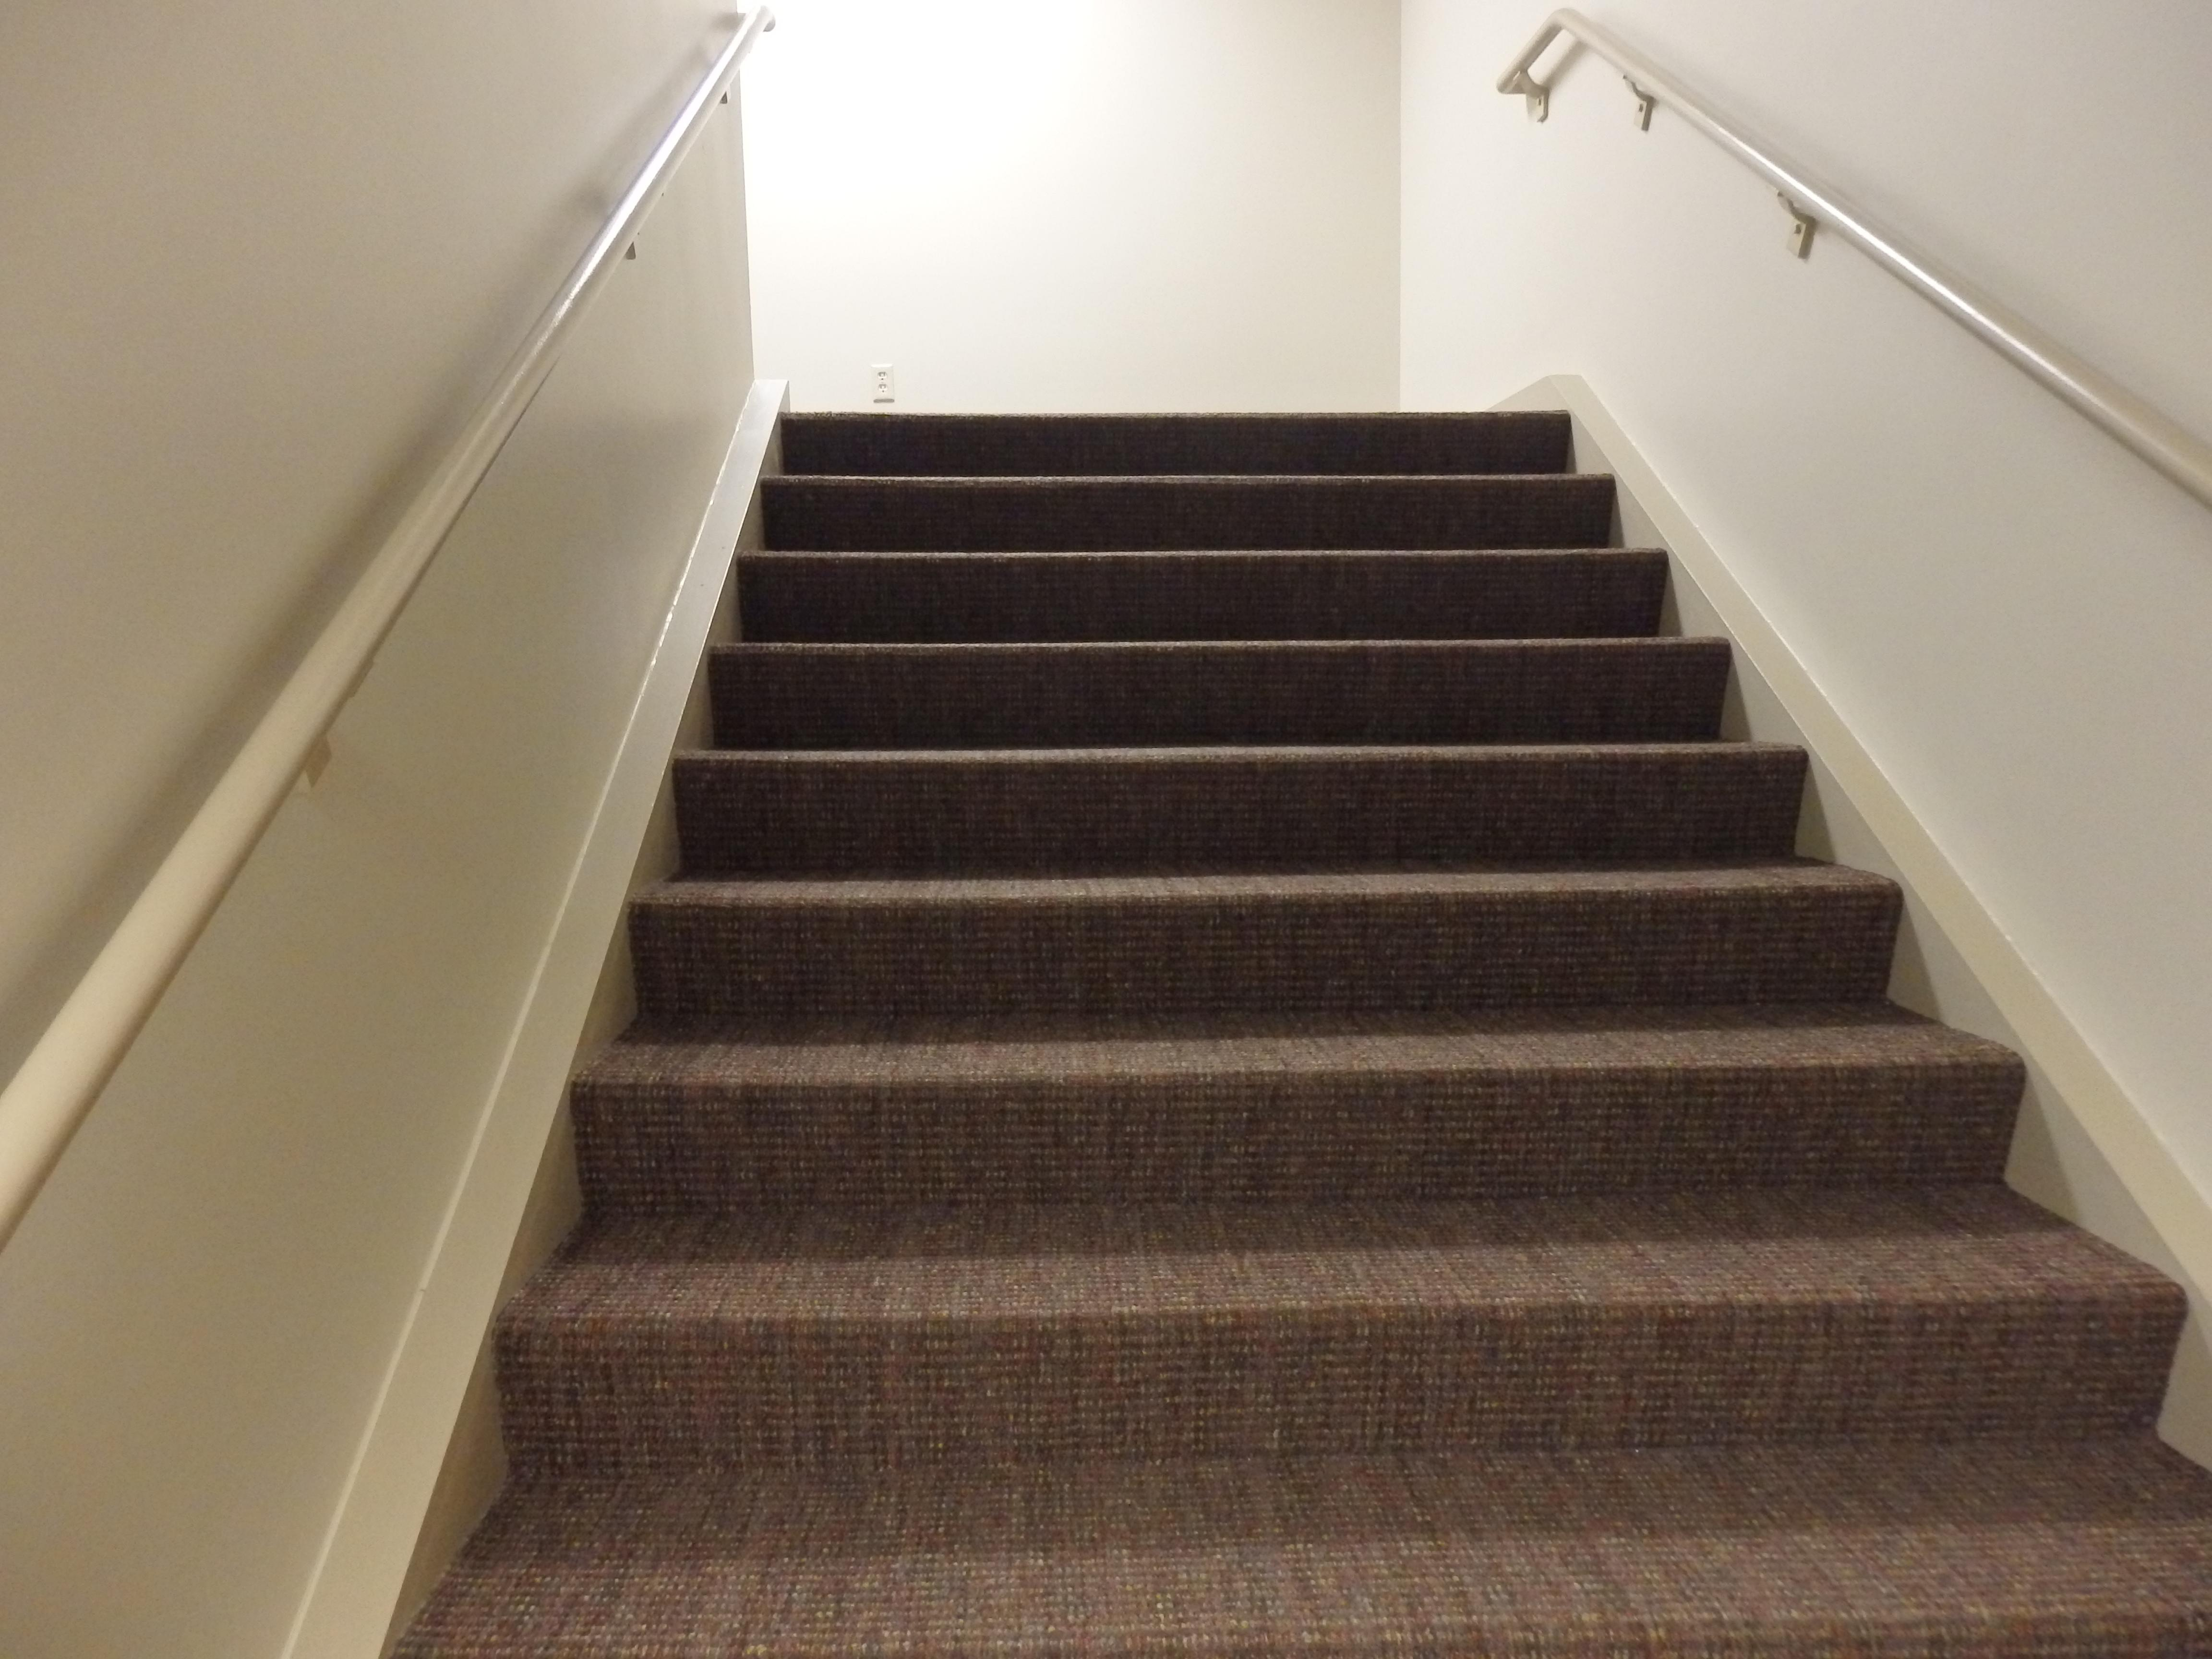stairs_up: (604, 383, 2010, 1596)
